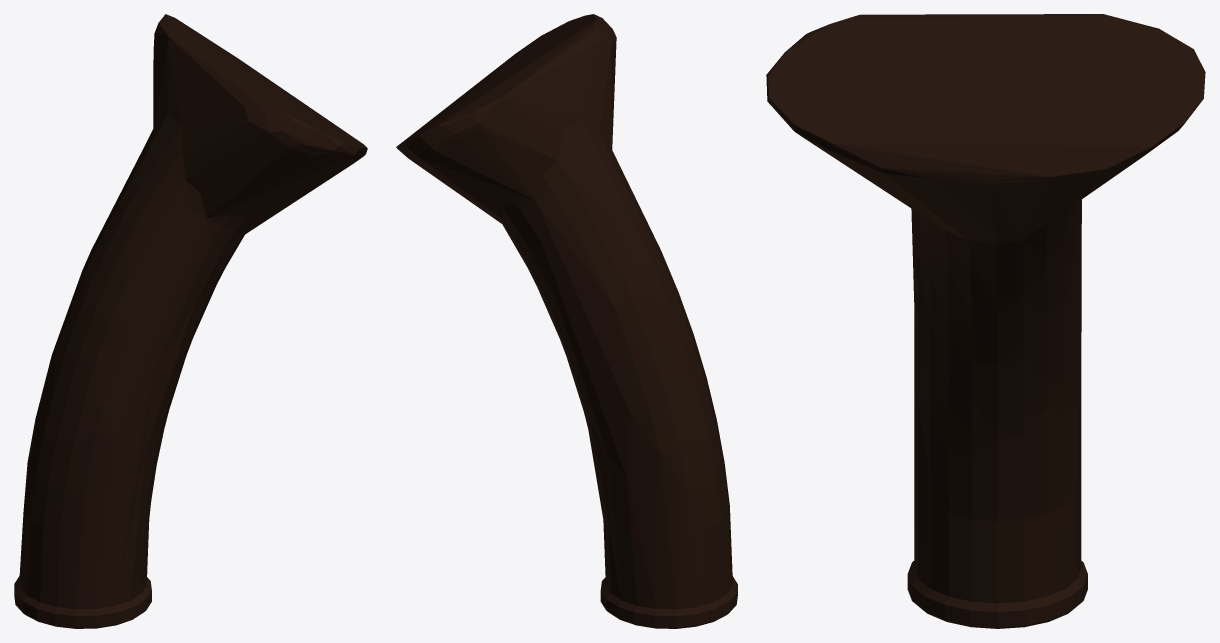
File: Pipe20cB.obj
3 renders of one model, left to right at view 1: azimuth 30°, elevation 25°; view 2: azimuth 150°, elevation 25°; view 3: azimuth 270°, elevation 25°, orthographic. The views are drawn at different scales.
Visible parts, largest first — view 1: Pipe20cB_Pipe20c; view 2: Pipe20cB_Pipe20c; view 3: Pipe20cB_Pipe20c.
Boxes of the visible parts, x1,y1,x2,y2 form: Pipe20cB_Pipe20c: [14, 14, 367, 628]; Pipe20cB_Pipe20c: [396, 14, 737, 628]; Pipe20cB_Pipe20c: [766, 14, 1205, 628].
Bounding box in the file's own units: 0.1302 × 0.2176 × 0.1316.
